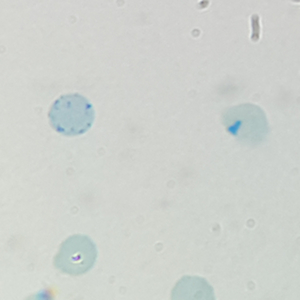aggregate reticulocyte: (46, 92, 96, 137)
erythrocyte: (218, 102, 270, 144), (51, 233, 100, 276)
